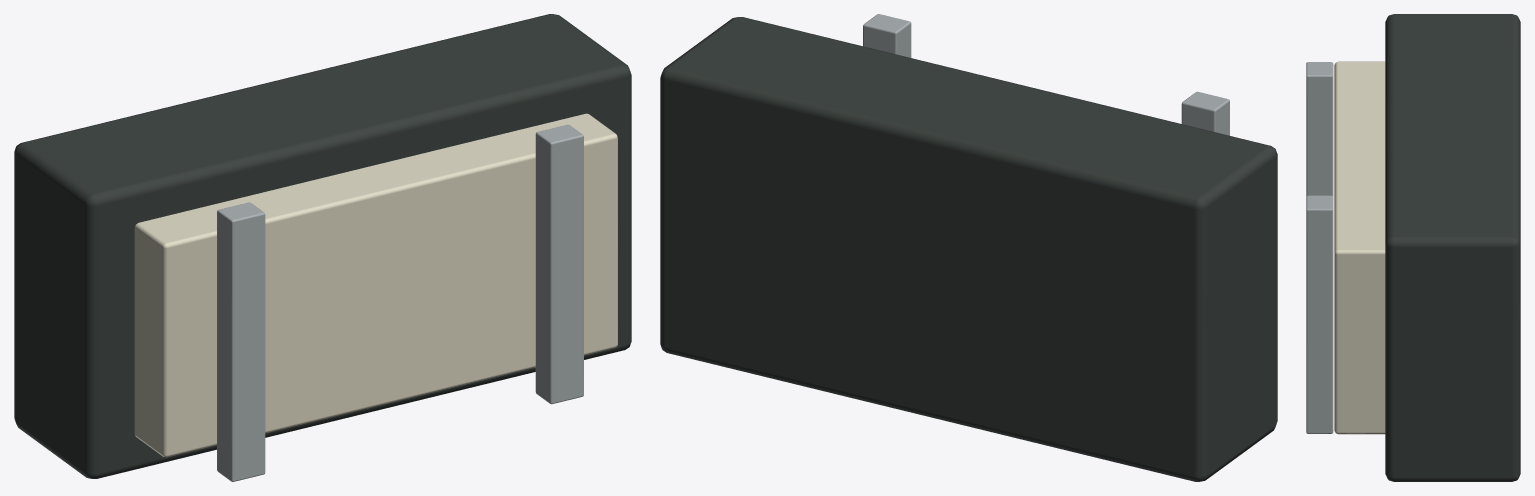
Rendered from off-grid-power-and-controls-bulkhead-light-9559f311__3021.glb.
3 renders of one model, left to right at view 1: azimuth 30°, elevation 25°; view 2: azimuth 150°, elevation 25°; view 3: azimuth 270°, elevation 25°, orthographic. The views are drawn at different scales.
Parts seen in each view (by area): view 1: bulkhead-light; view 2: bulkhead-light; view 3: bulkhead-light.
Part boxes in pixels (<box>): bulkhead-light: <box>14,14,631,481</box>; bulkhead-light: <box>660,14,1277,481</box>; bulkhead-light: <box>1306,14,1520,481</box>.
Bounding box in the file's own units: 0.24 × 0.12 × 0.095.
